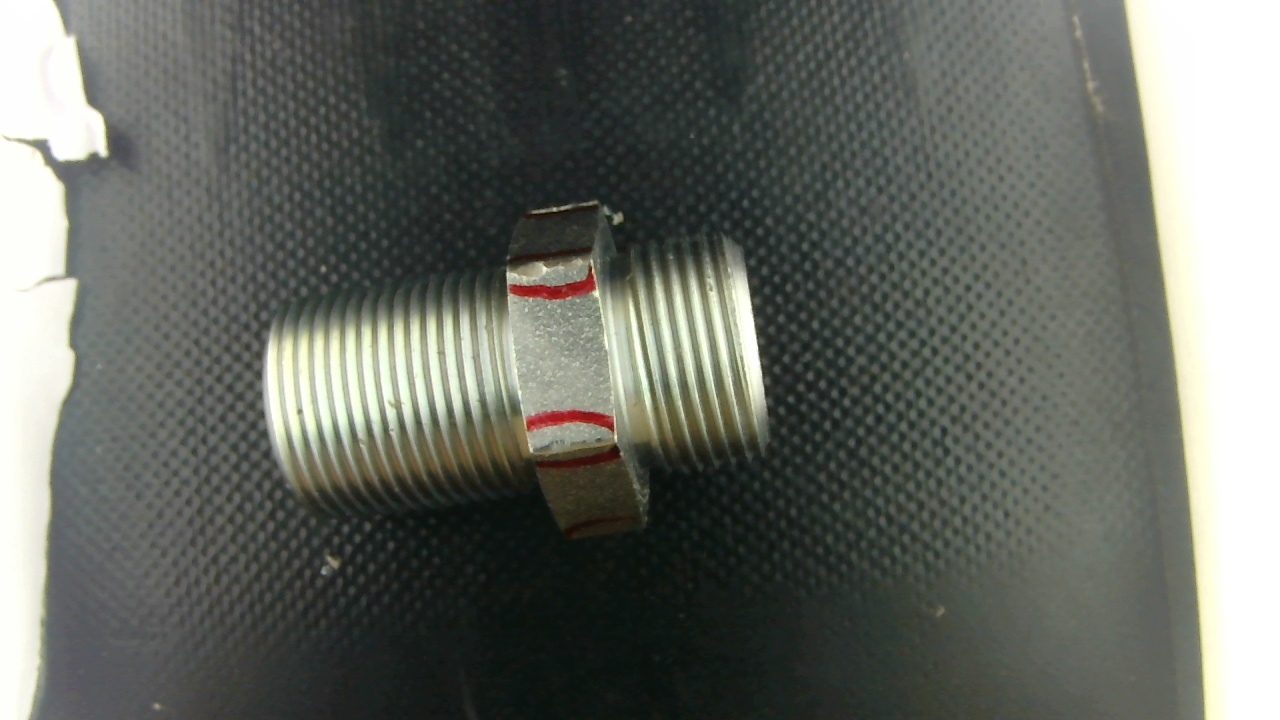Hex_damage: (504, 252, 595, 283)
